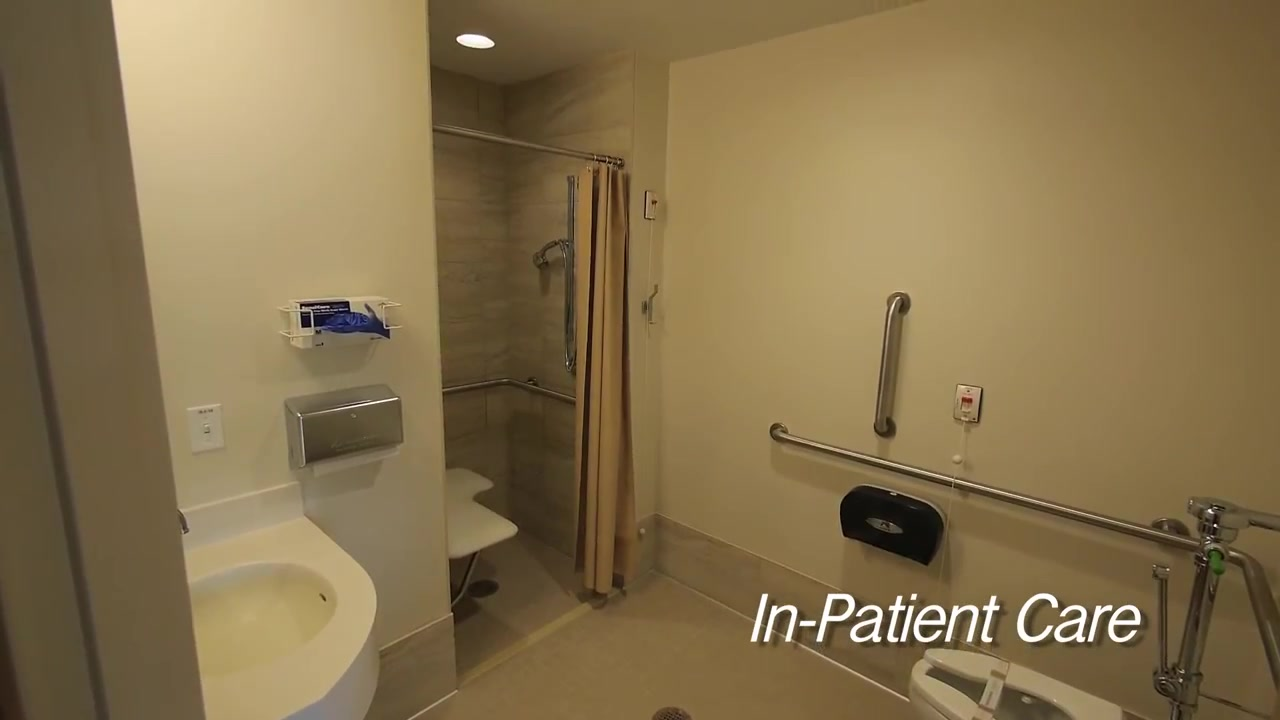curtain: (569, 154, 641, 599)
dispenser: (283, 385, 405, 471), (838, 483, 947, 566), (284, 295, 400, 349)
light_switch: (186, 407, 224, 455)
restroom_assist_bar: (771, 422, 1242, 558), (1234, 558, 1280, 710), (873, 289, 913, 440), (509, 378, 576, 407), (440, 375, 508, 397)
sink: (183, 513, 381, 720)
toilet: (898, 645, 1131, 720)
toilet_handle: (1206, 544, 1227, 576)
